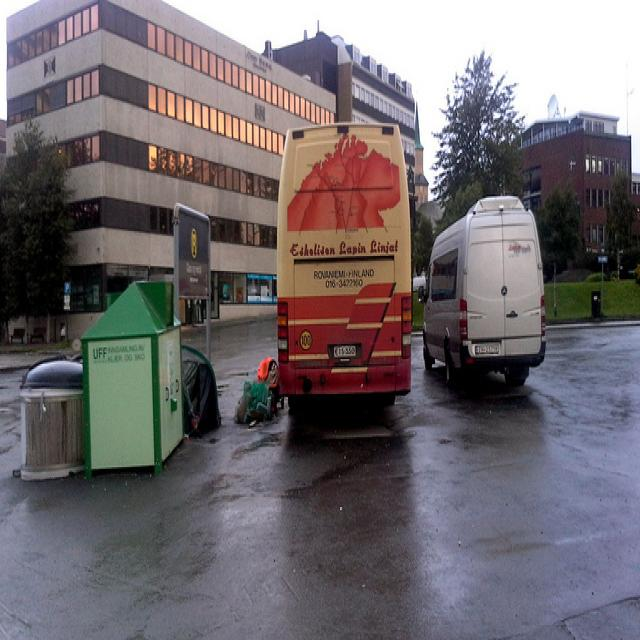Vehicle: (278, 123, 415, 430), (418, 191, 548, 404), (415, 196, 547, 389)
